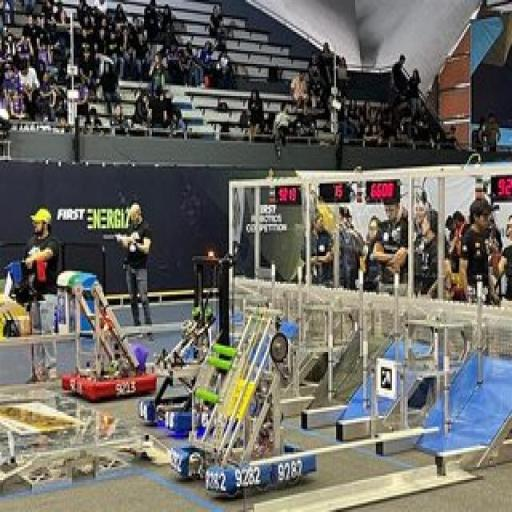robot: (164, 300, 318, 494), (131, 248, 243, 442), (56, 260, 158, 402)
